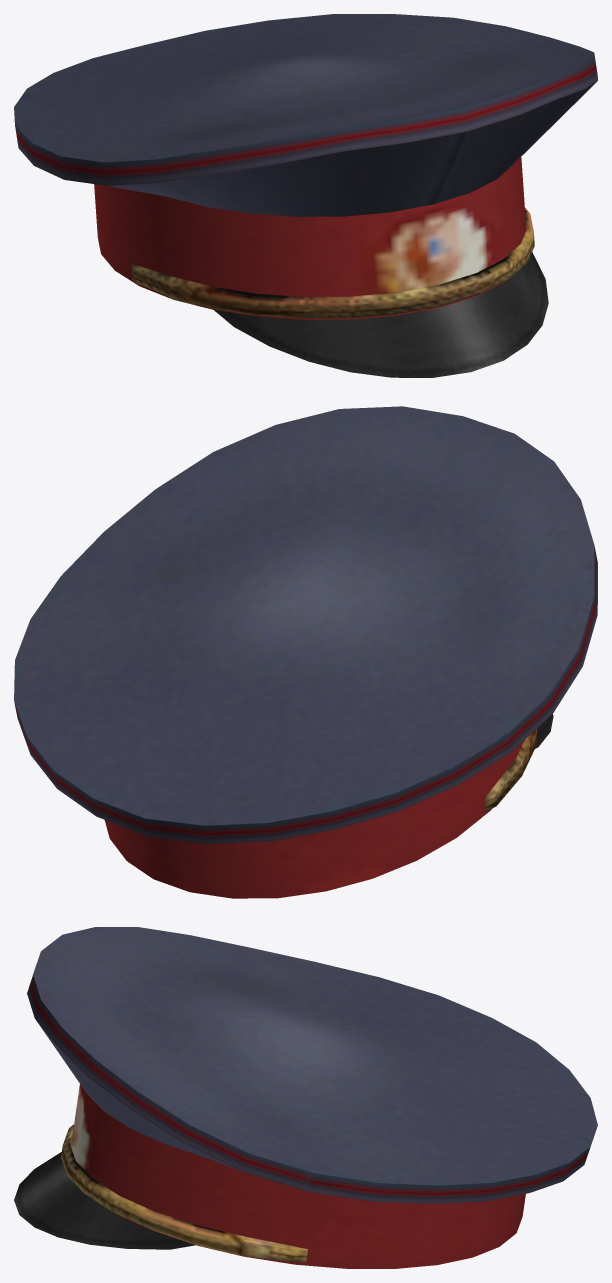
Rendered from kepka_0.FBX.
The picture shows the model from 3 angles, top to bottom: view 1: azimuth 30°, elevation 25°; view 2: azimuth 150°, elevation 25°; view 3: azimuth 270°, elevation 25°; orthographic projection. The views are drawn at different scales.
Visible parts, largest first — view 1: kepka; view 2: kepka; view 3: kepka.
Boxes of the visible parts, x1=… form: kepka: x1=14, y1=14, x2=597, y2=377; kepka: x1=14, y1=406, x2=597, y2=898; kepka: x1=14, y1=927, x2=597, y2=1268.
Bounding box in the file's own units: 22.27 × 11.92 × 25.97.
